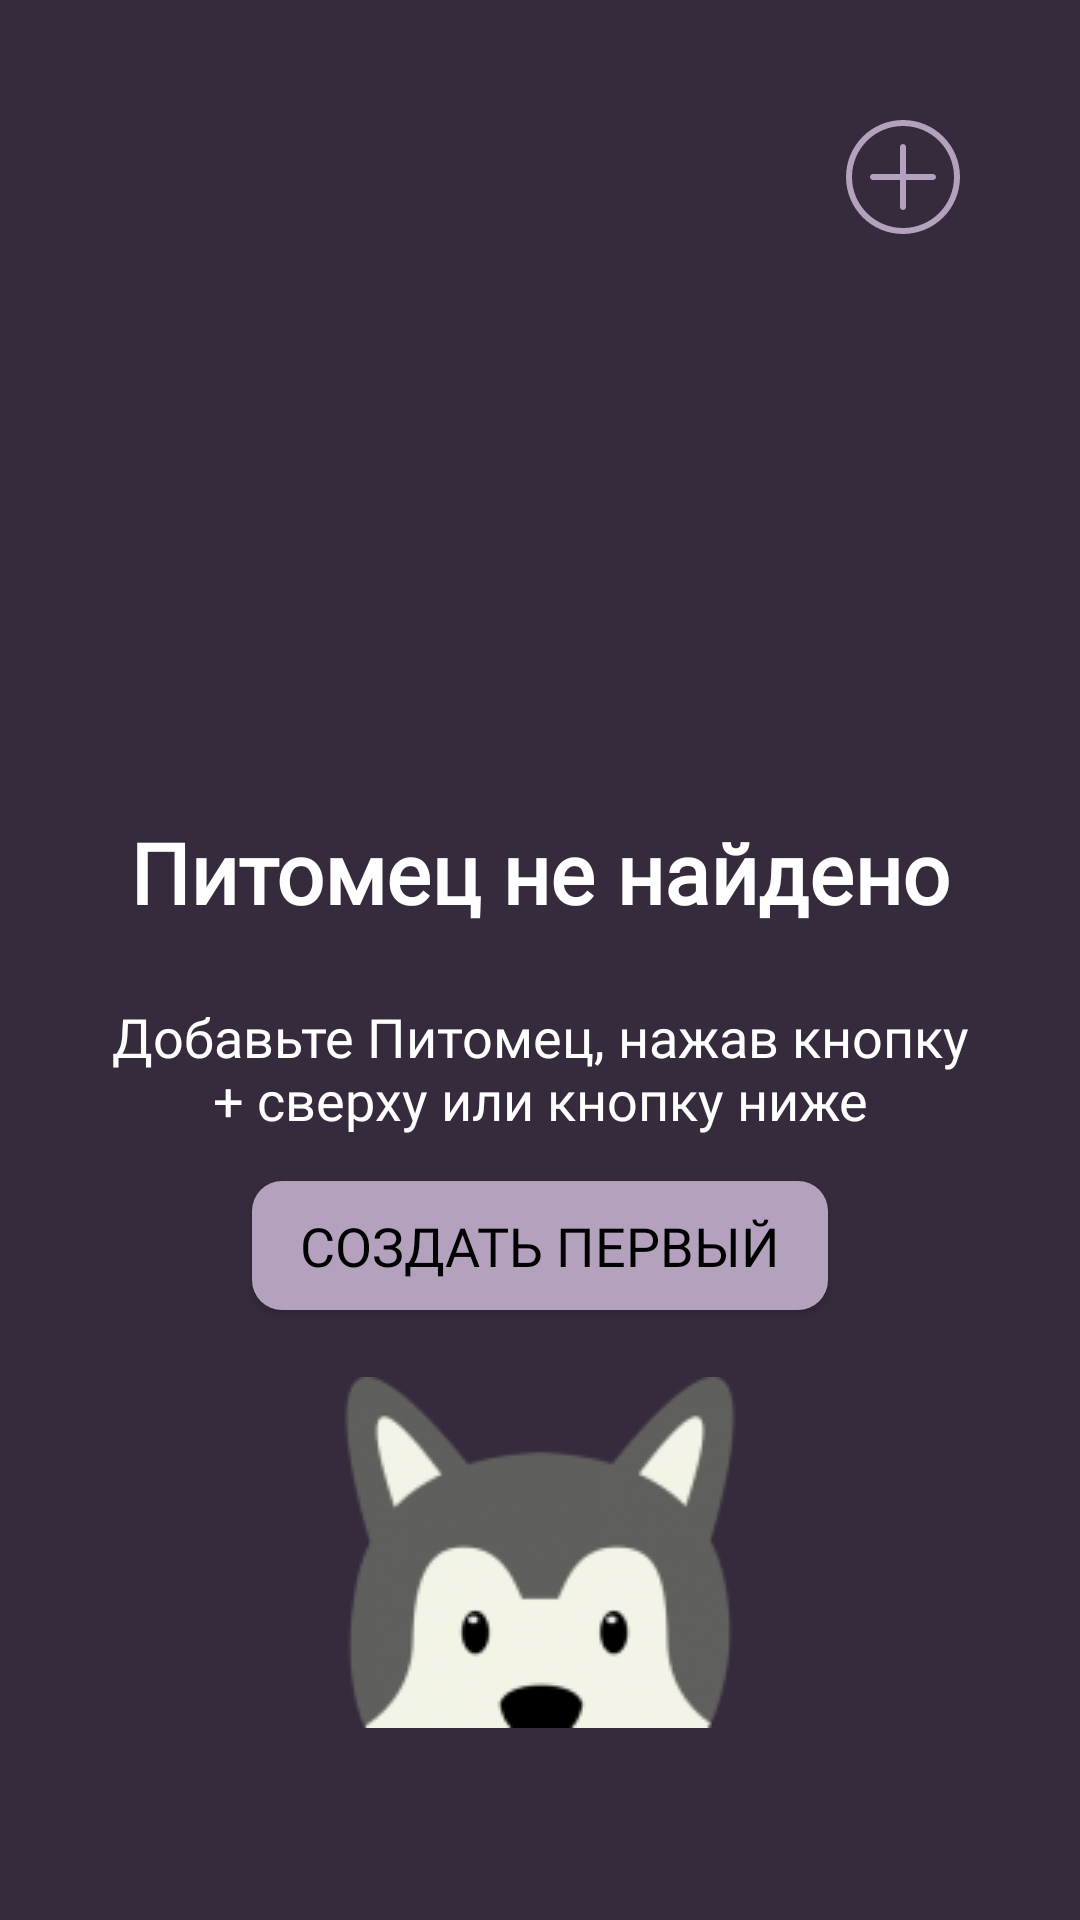

Icon bounding boxes for this 1080*1920 phone screenshot, format {"left": x1, "top": y1, "right": x2, "bottom": y2}:
plus: {"left": 846, "top": 120, "right": 960, "bottom": 234}
